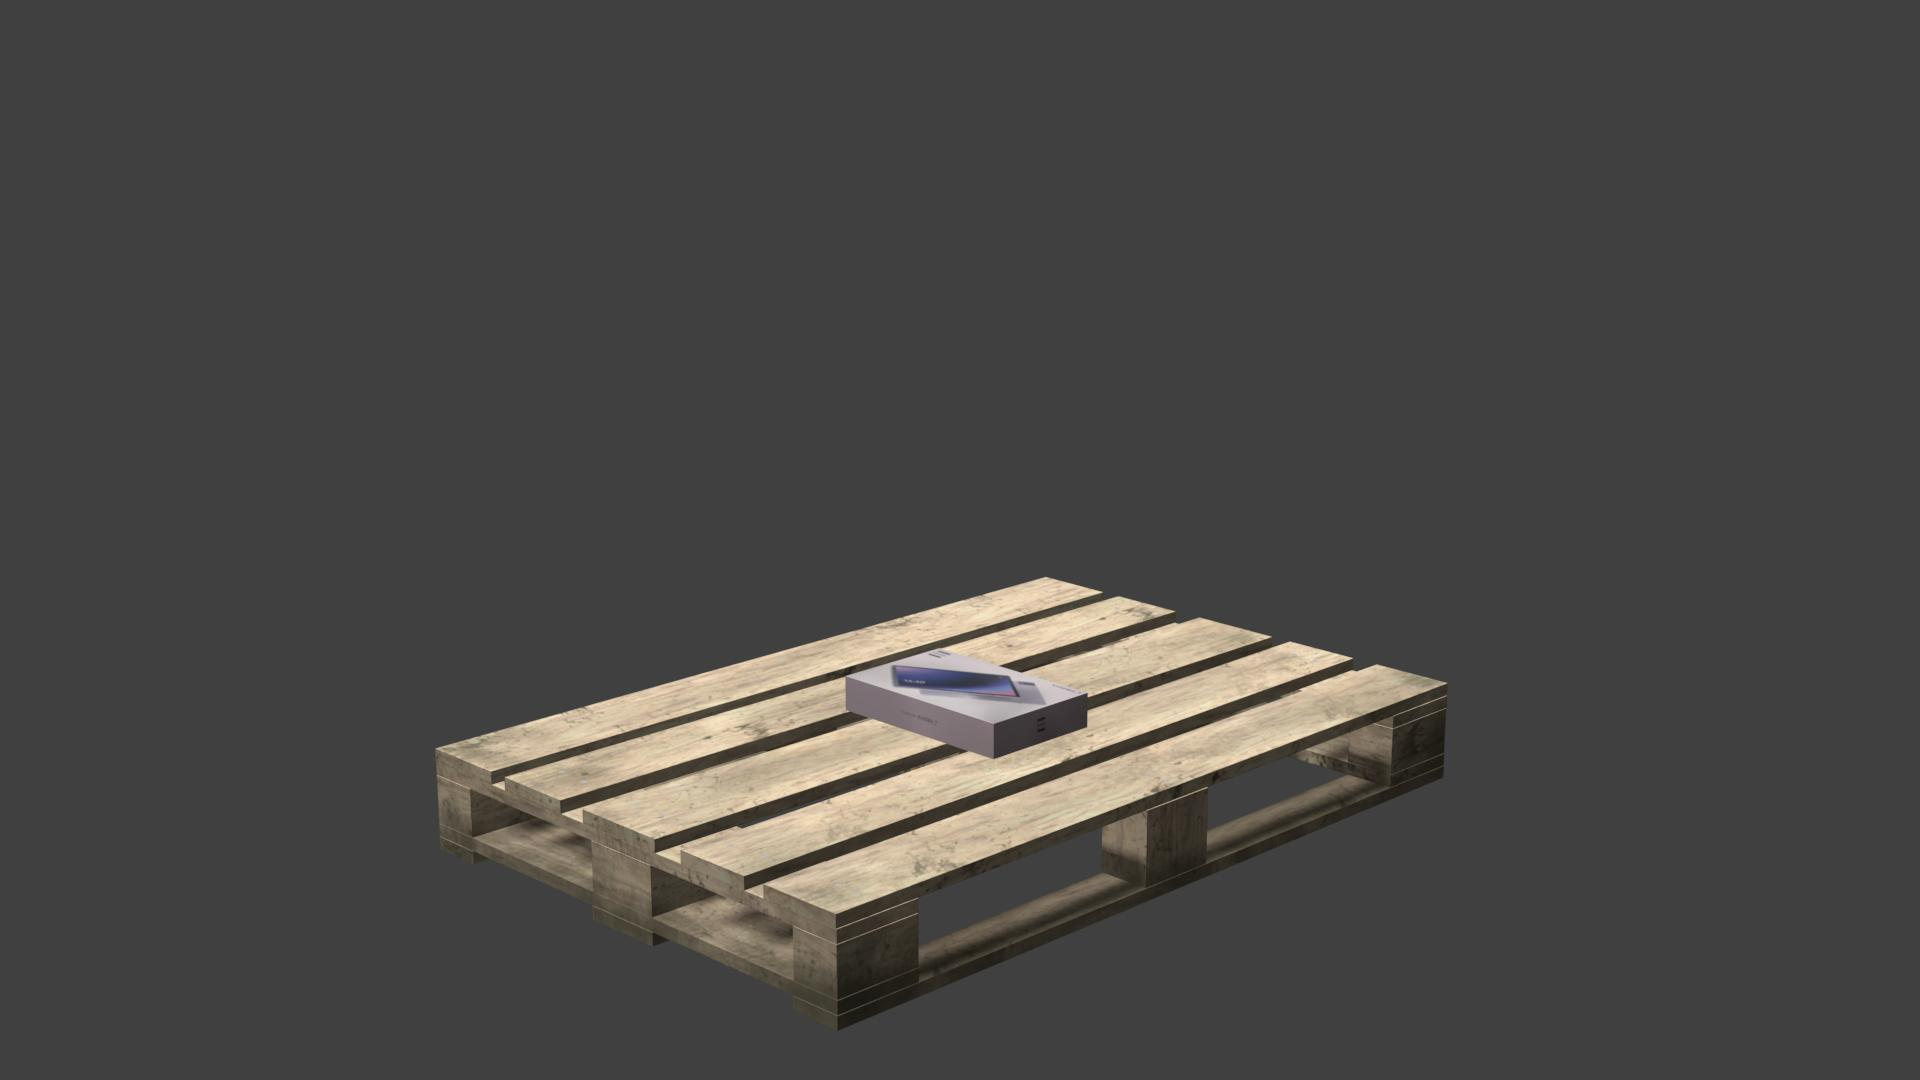palet: (442, 575, 1445, 1031)
tablet_left: (845, 676, 1087, 760)
tablet_top: (847, 647, 1087, 723)
